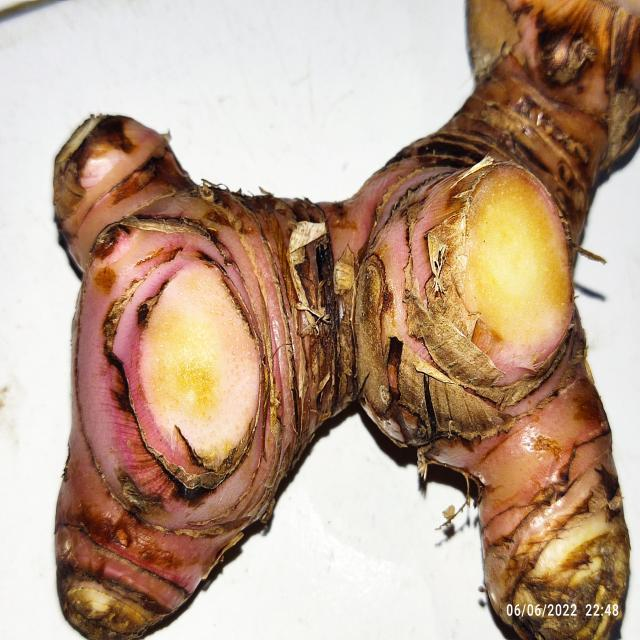ginger: (53, 115, 615, 627)
